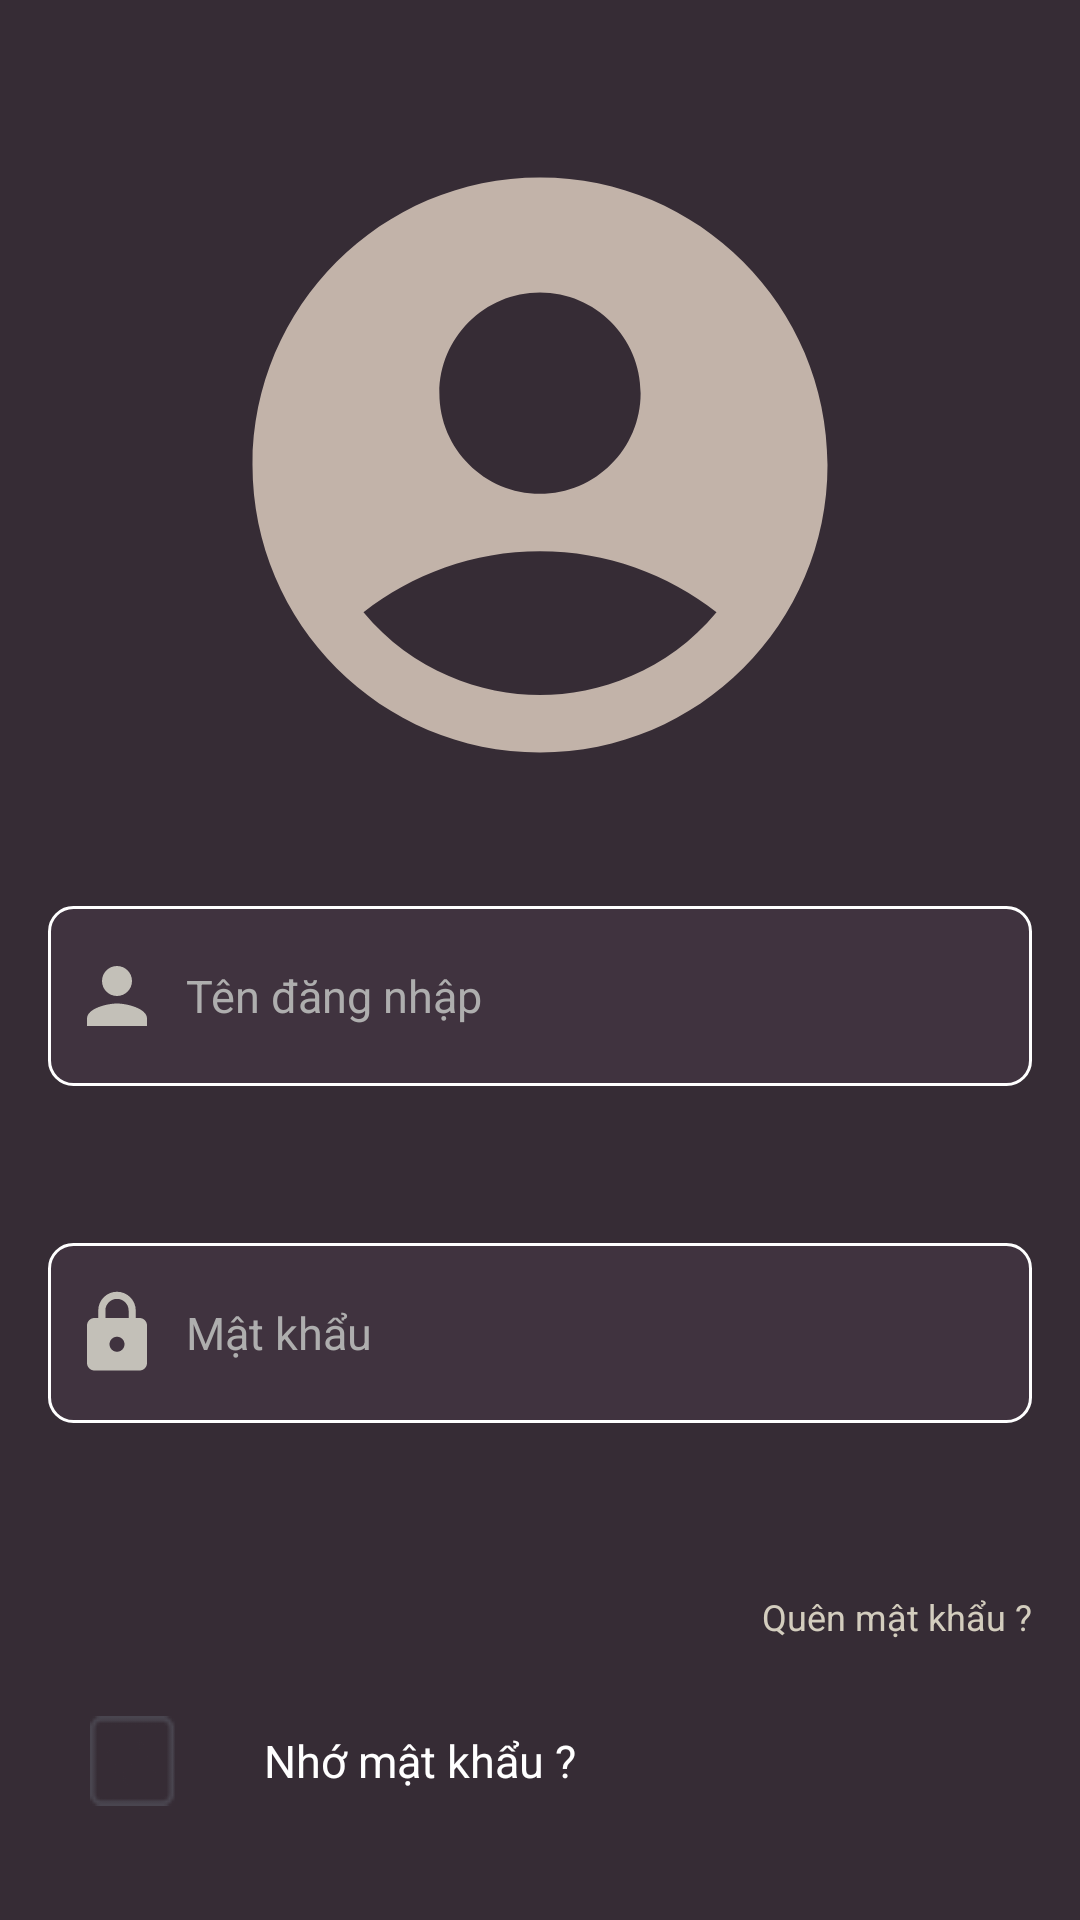

Icon click points for this 1080x1920 phone screenshot, format point (x, y):
checkbox custom: point (131, 1761)
